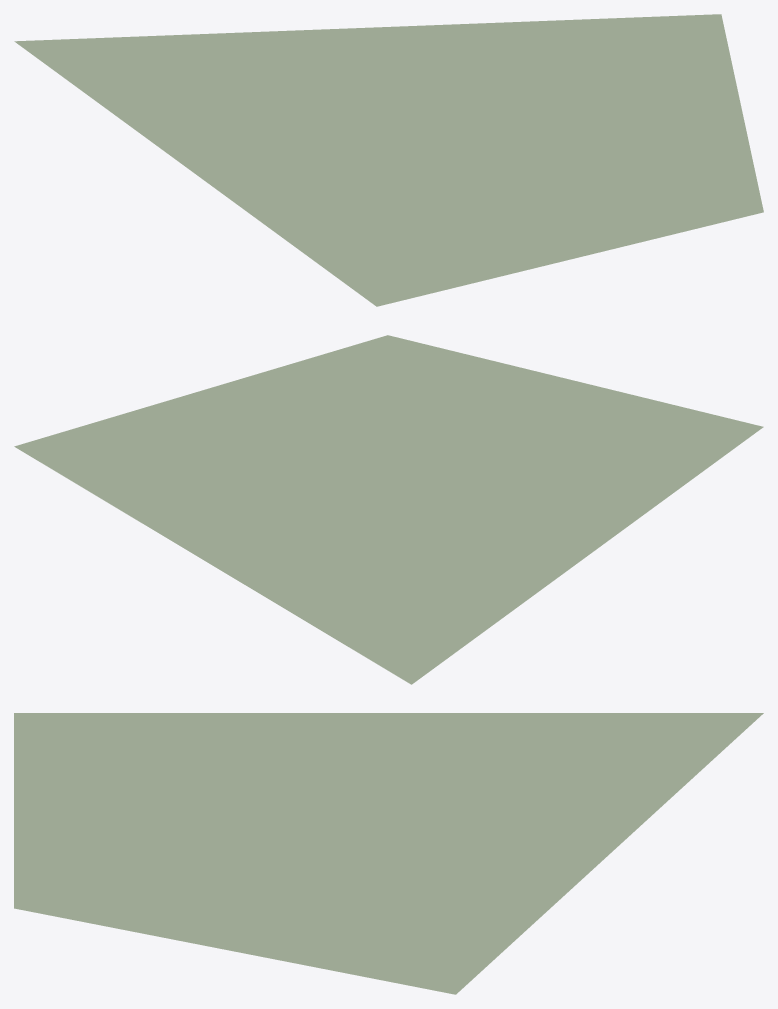
The model's file is SM_MPRR_Terrain_5_2.fbx.
The picture shows the model from 3 angles, top to bottom: view 1: azimuth 30°, elevation 25°; view 2: azimuth 150°, elevation 25°; view 3: azimuth 270°, elevation 25°; orthographic projection. The views are drawn at different scales.
Parts seen in each view (by area): view 1: SM_MPRR_Terrain_5_2; view 2: SM_MPRR_Terrain_5_2; view 3: SM_MPRR_Terrain_5_2.
Part boxes in pixels (x1,y1,x2,y2): SM_MPRR_Terrain_5_2: (14, 14, 763, 306); SM_MPRR_Terrain_5_2: (14, 335, 763, 684); SM_MPRR_Terrain_5_2: (14, 713, 763, 994).
Bounding box in the file's own units: 3678 × 4139 × 0.
